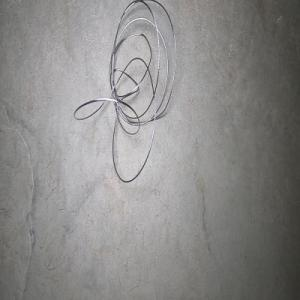Wire: (73, 0, 176, 182)
